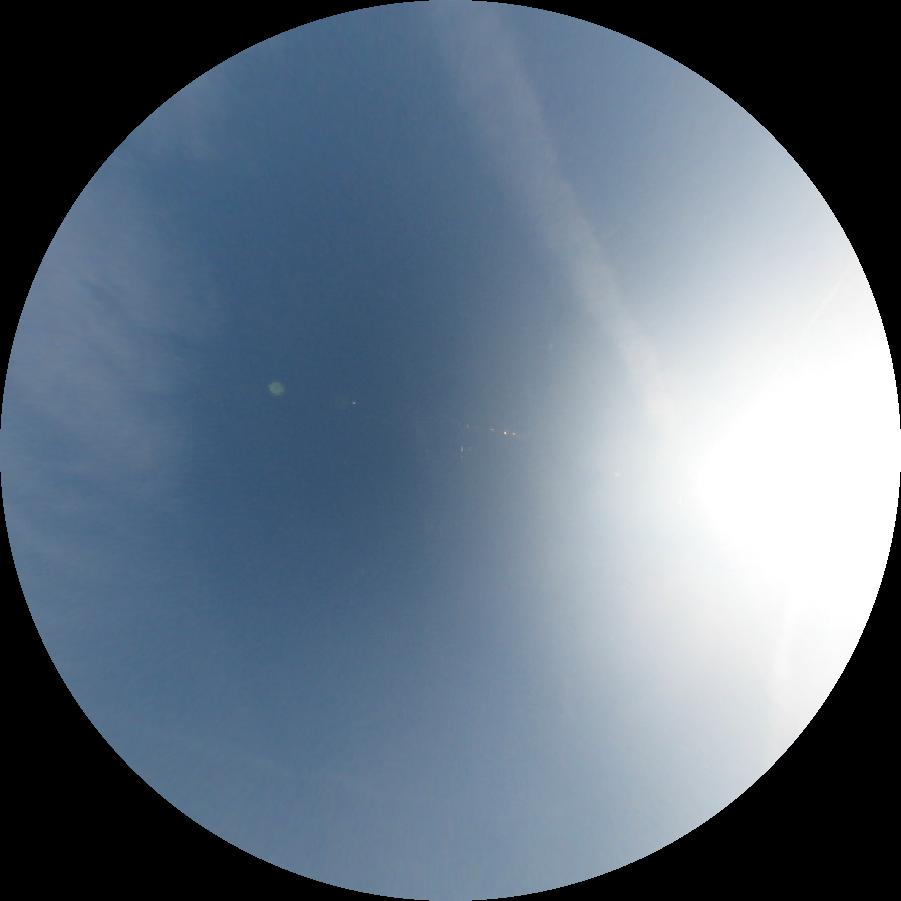contrail veryold: (428, 4, 656, 385)
sun: (693, 372, 899, 588)
